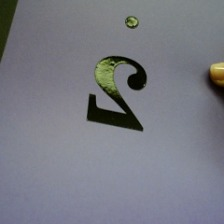violet2: (81, 15, 160, 137)
